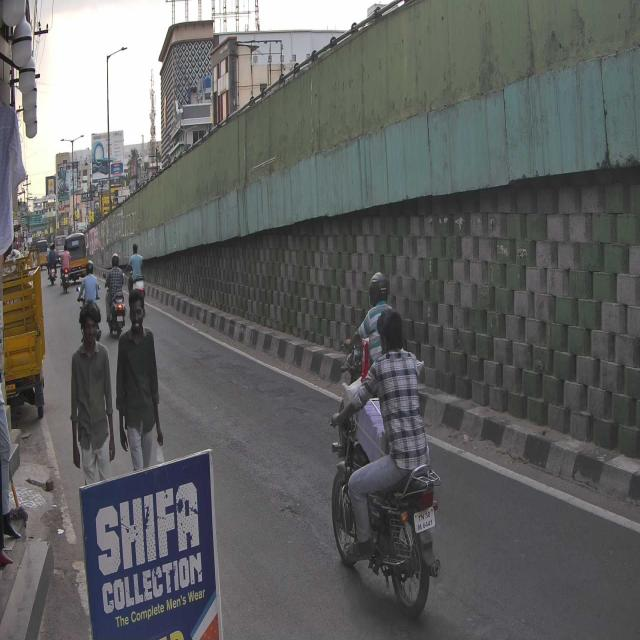single_rider: (328, 308, 440, 617)
